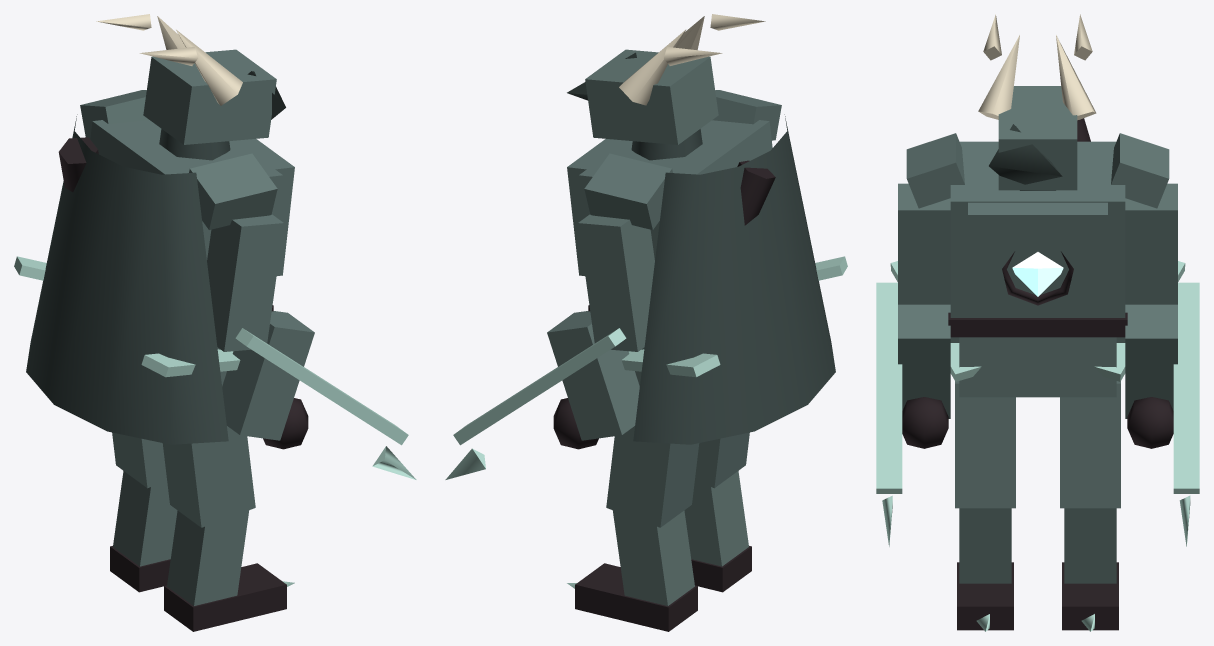
File: enemy_boss_hunter.glb
The picture shows the model from 3 angles, left to right: view 1: azimuth 30°, elevation 25°; view 2: azimuth 150°, elevation 25°; view 3: azimuth 270°, elevation 25°; orthographic projection. The views are drawn at different scales.
Parts seen in each view (by area): view 1: cape, head, arm_l_upper, arm_l_lower, thigh_l, shin_l, torso, pauldron_l, shin_r, foot_l, arm_l_blade, thigh_r (+11 smaller); view 2: cape, head, arm_r_upper, arm_r_lower, thigh_r, shin_r, torso, pauldron_r, shin_l, foot_r, arm_r_blade, thigh_l (+11 smaller); view 3: chest_plate, torso, hips, thigh_l, thigh_r, head, arm_l_upper, arm_r_upper, arm_l_blade, arm_r_blade, arm_l_lower, arm_r_lower (+18 smaller).
Part boxes in pixels (<box>): cape: <box>26,114,228,444</box>; head: <box>143,49,276,144</box>; arm_l_upper: <box>207,214,283,351</box>; arm_l_lower: <box>222,311,314,440</box>; thigh_l: <box>162,426,255,527</box>; shin_l: <box>167,510,249,605</box>; torso: <box>90,120,282,259</box>; pauldron_l: <box>189,153,277,229</box>; shin_r: <box>113,471,177,566</box>; foot_l: <box>164,563,286,631</box>; arm_l_blade: <box>235,328,408,445</box>; thigh_r: <box>112,432,166,488</box>; cape: <box>633,114,835,444</box>; head: <box>585,49,718,144</box>; arm_r_upper: <box>578,214,654,351</box>; arm_r_lower: <box>547,311,639,440</box>; thigh_r: <box>606,426,699,527</box>; shin_r: <box>612,510,694,605</box>; torso: <box>579,120,772,259</box>; pauldron_r: <box>584,153,672,229</box>; shin_l: <box>684,471,748,566</box>; foot_r: <box>575,563,697,631</box>; arm_r_blade: <box>453,328,626,445</box>; thigh_l: <box>695,432,749,488</box>; chest_plate: <box>968,202,1107,311</box>; torso: <box>950,141,1125,342</box>; hips: <box>959,337,1116,397</box>; thigh_l: <box>955,381,1015,508</box>; thigh_r: <box>1060,381,1120,508</box>; head: <box>998,86,1077,190</box>; arm_l_upper: <box>898,183,950,304</box>; arm_r_upper: <box>1125,183,1177,304</box>; arm_l_blade: <box>876,282,902,493</box>; arm_r_blade: <box>1173,282,1199,493</box>; arm_l_lower: <box>898,304,950,418</box>; arm_r_lower: <box>1125,304,1177,418</box>.
Size of the model in its own units: 0.3669 by 0.7052 by 0.37.
